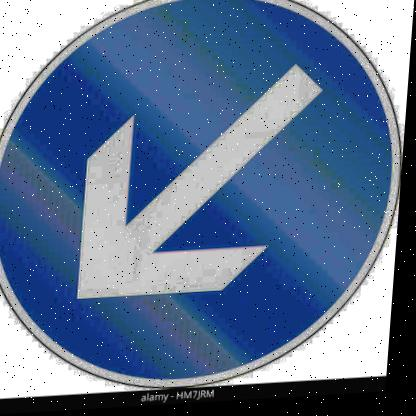Keep left: (0, 0, 411, 399)
